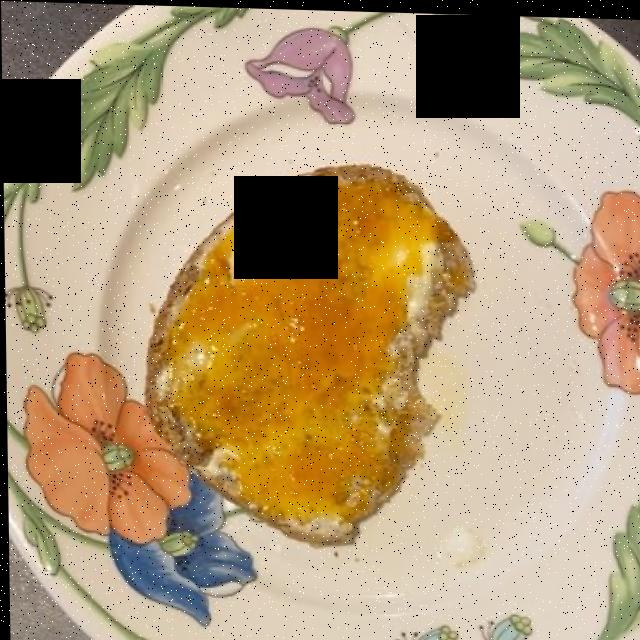bread-wholemeal: (147, 168, 464, 529)
jam: (125, 172, 441, 546)
